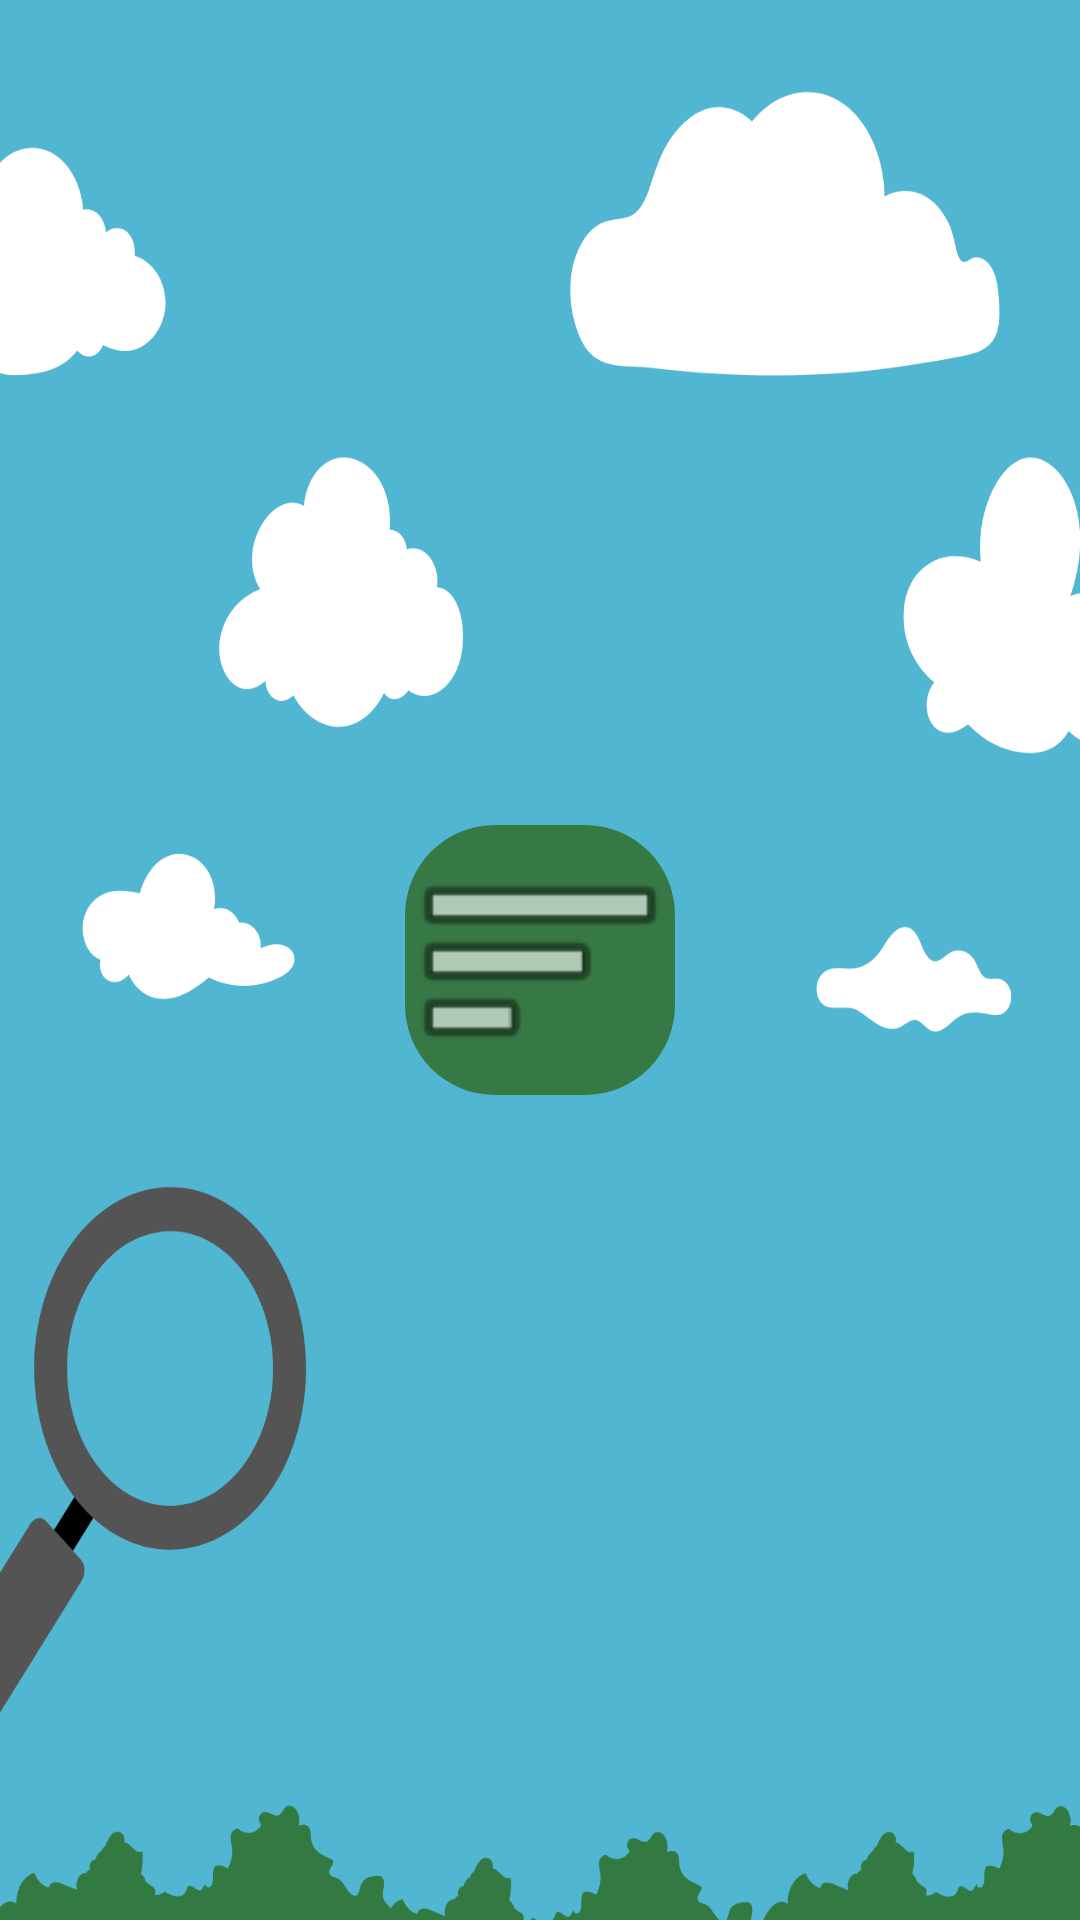

Icon bounding boxes for this 1080×1920 phone screenshot, format {"x1": x1, "y1": y1, "x2": x2, "y2": y2}:
sort by size: {"x1": 405, "y1": 825, "x2": 675, "y2": 1095}
